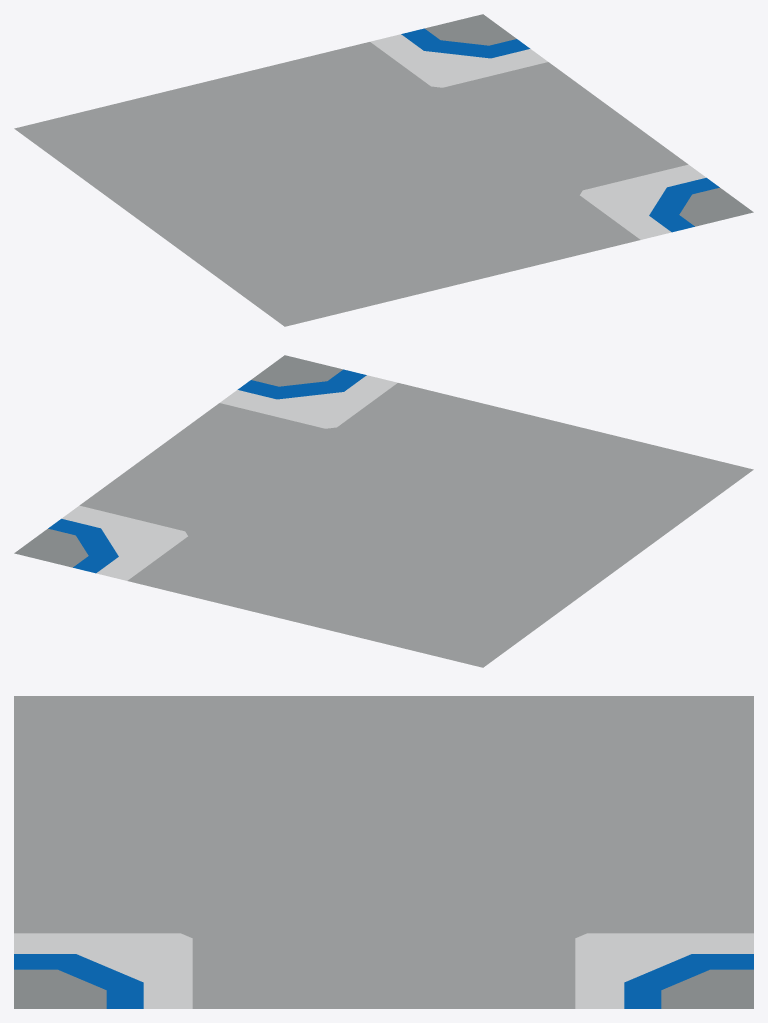
Rendered from Ceiling_type_A_047.fbx.
3 views of the same model, one above another, from view 1: azimuth 30°, elevation 25°; view 2: azimuth 150°, elevation 25°; view 3: azimuth 270°, elevation 25° (orthographic). The views are drawn at different scales.
Parts seen in each view (by area): view 1: Ceiling_type_A_047; view 2: Ceiling_type_A_047; view 3: Ceiling_type_A_047.
Part boxes in pixels (left/top/right/bottom): Ceiling_type_A_047: left=14, top=14, right=753, bottom=326; Ceiling_type_A_047: left=14, top=355, right=753, bottom=667; Ceiling_type_A_047: left=14, top=696, right=753, bottom=1008.
Bounding box in the file's own units: 400 × 400 × 3.5.
